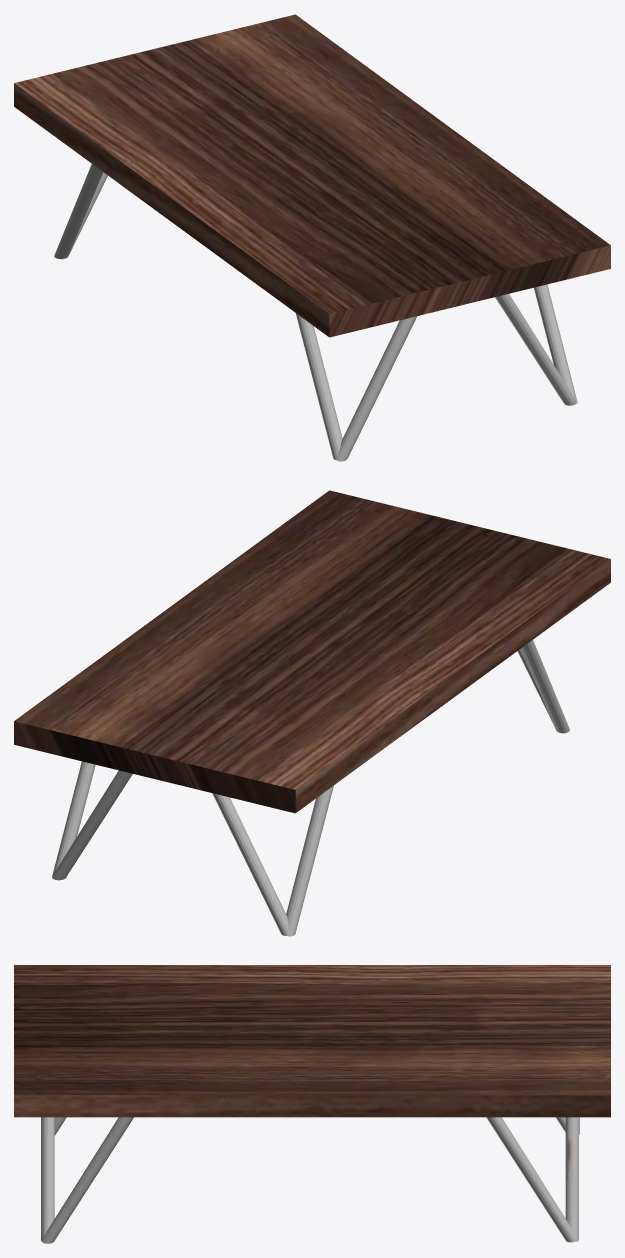
File: delosReyes_table.glb
3 renders of one model, top to bottom at view 1: azimuth 30°, elevation 25°; view 2: azimuth 150°, elevation 25°; view 3: azimuth 270°, elevation 25°, orthographic. The views are drawn at different scales.
Parts seen in each view (by area): view 1: table; view 2: table; view 3: table.
Boxes of the visible parts, left/top/right/bottom form: table: left=14, top=14, right=610, bottom=461; table: left=14, top=490, right=610, bottom=936; table: left=14, top=965, right=610, bottom=1243.
Size of the model in its own units: 10.07 by 5.64 by 19.54.
Materials: 1 (1 with a texture image).
